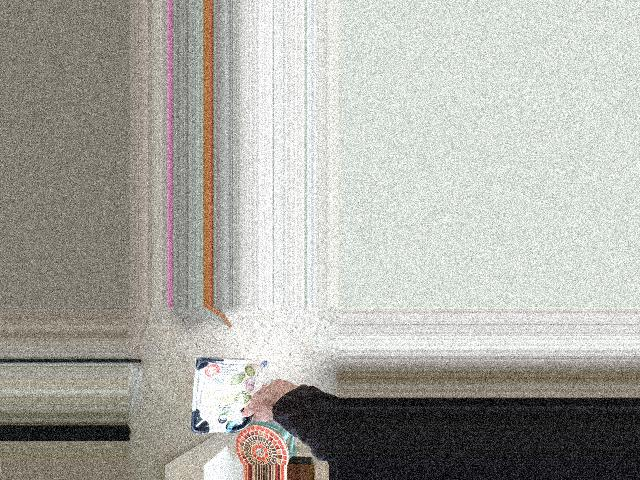cheese: (194, 347, 290, 442)
